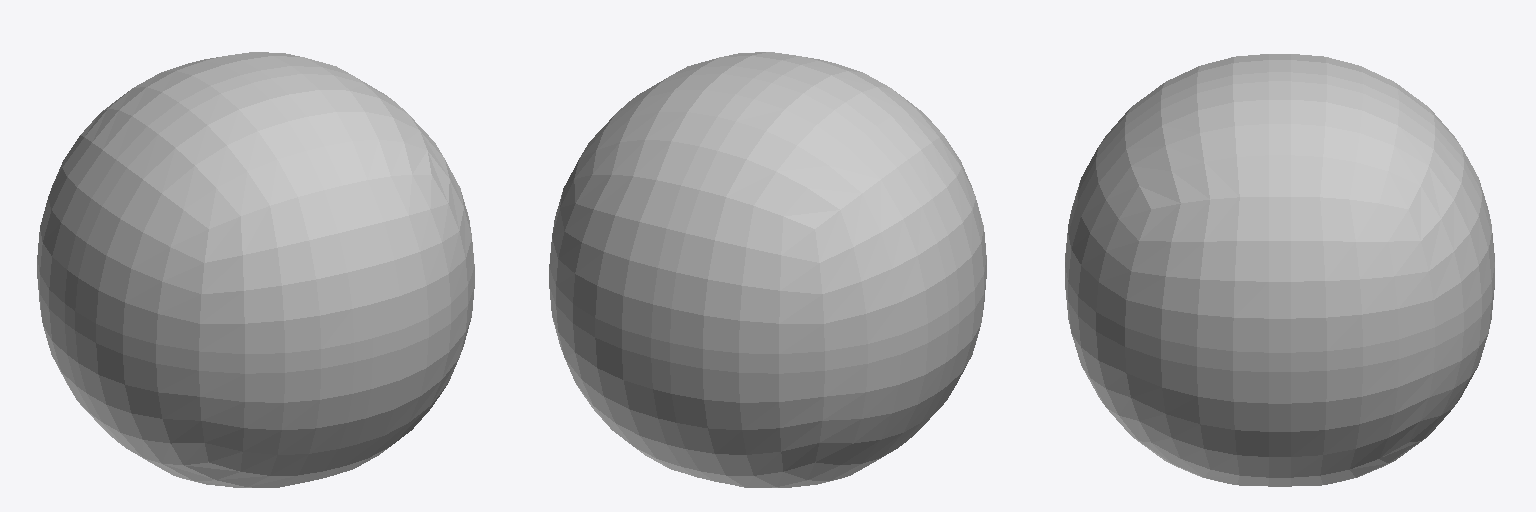
Rendered from light.obj.
3 views of the same model, side by side, from view 1: azimuth 30°, elevation 25°; view 2: azimuth 150°, elevation 25°; view 3: azimuth 270°, elevation 25° (orthographic).
Parts seen in each view (by area): view 1: Roundcube; view 2: Roundcube; view 3: Roundcube.
Boxes of the visible parts, <box> form: Roundcube: <box>37,52,474,487</box>; Roundcube: <box>549,52,986,487</box>; Roundcube: <box>1065,54,1494,486</box>.
Size of the model in its own units: 0.8592 by 0.7903 by 0.8592.